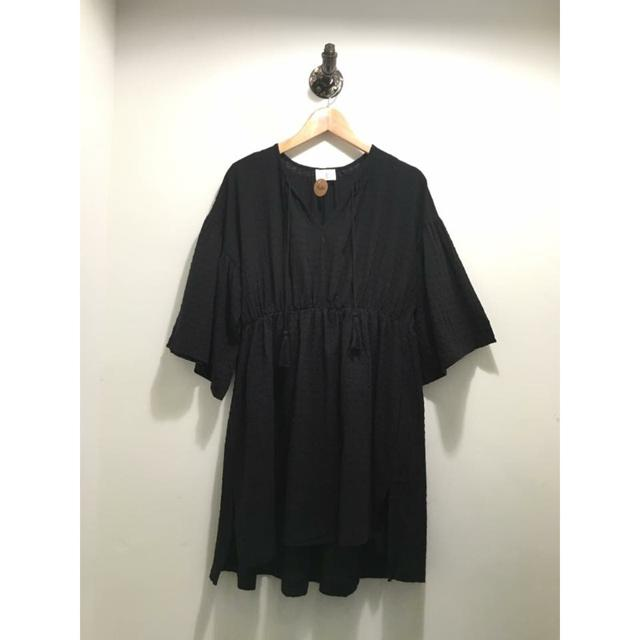Dresses: (173, 139, 491, 592)
